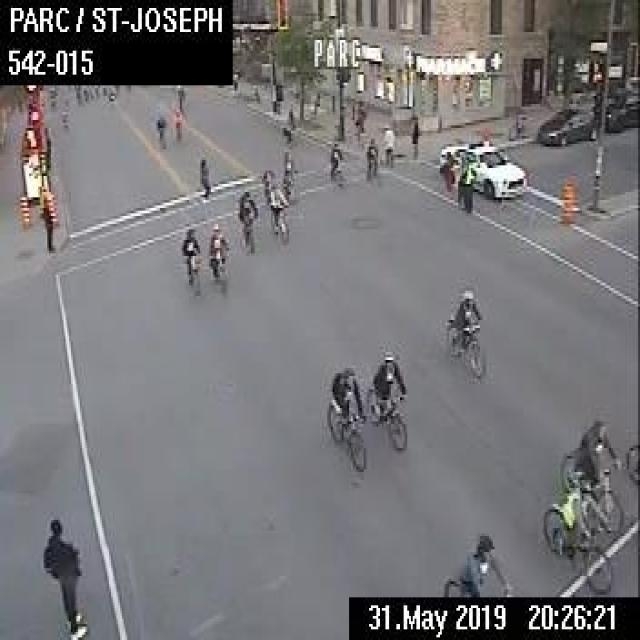construction: (16, 190, 31, 230), (561, 177, 573, 224), (42, 189, 57, 226)
cyclist: (542, 470, 612, 591), (557, 417, 623, 536), (437, 525, 508, 595), (325, 360, 365, 472), (364, 348, 406, 449), (443, 286, 485, 379), (207, 216, 228, 284), (233, 189, 256, 251), (180, 224, 200, 292), (266, 183, 289, 241), (280, 147, 298, 204), (328, 136, 346, 187), (152, 104, 166, 148), (624, 440, 638, 480), (262, 165, 275, 203)
pedestrian: (40, 518, 85, 638), (456, 159, 475, 212), (38, 192, 55, 251), (405, 101, 420, 158), (378, 124, 393, 170), (196, 155, 211, 200), (362, 134, 376, 179), (351, 96, 362, 144), (172, 105, 181, 138), (176, 82, 184, 114), (287, 101, 292, 124)
vehicle: (434, 136, 526, 197), (536, 101, 596, 144), (604, 72, 638, 131)
